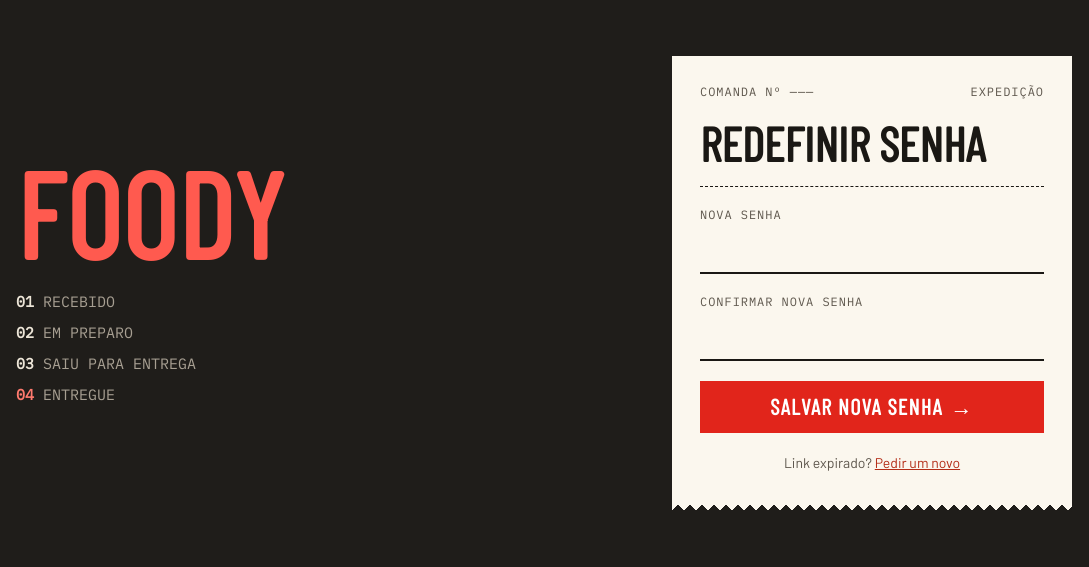
Scenario: ResetPasswordPage › sends the token with the new password and goes to the login page
Type "nova-s3nha" into the password field labelled "Nova senha" at x=872, y=252, box [700,230,1044,274]
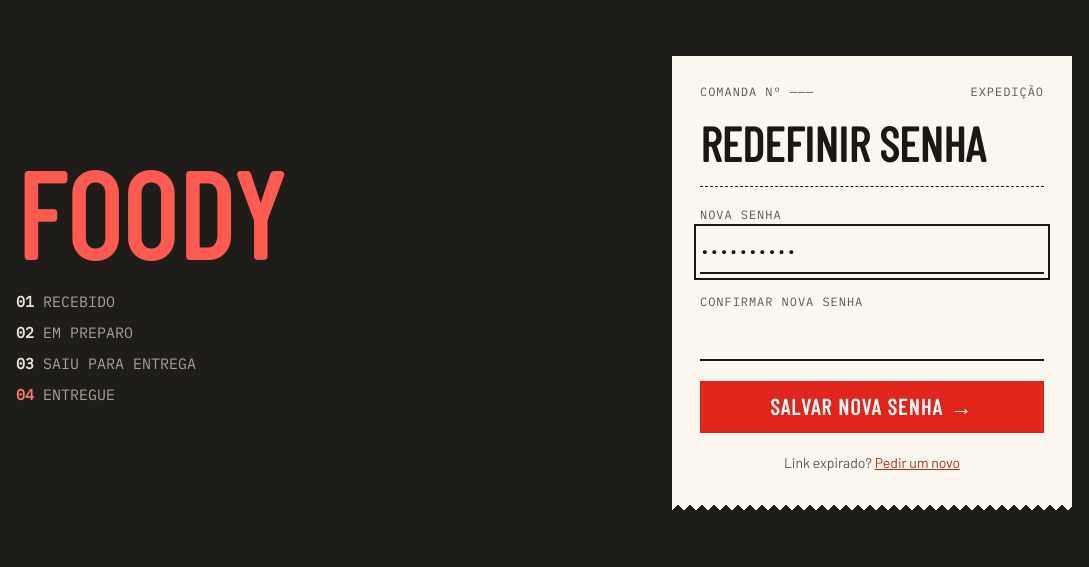
Type "nova-s3nha" into the password field labelled "Confirmar nova senha" at x=872, y=339, box [700,317,1044,361]
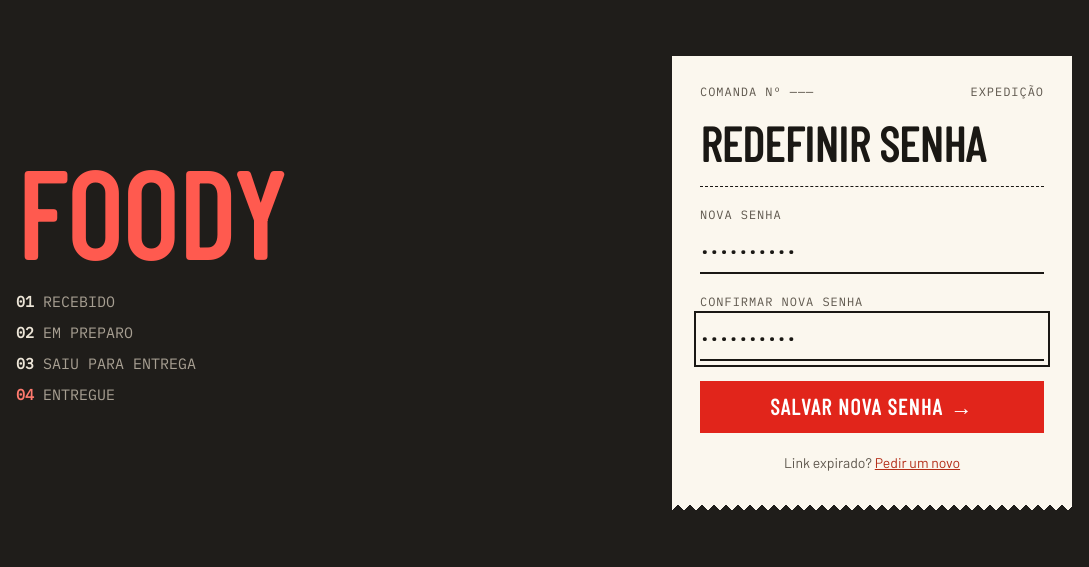
Click the button "Salvar nova senha →" at x=872, y=407, box [700,381,1044,433]
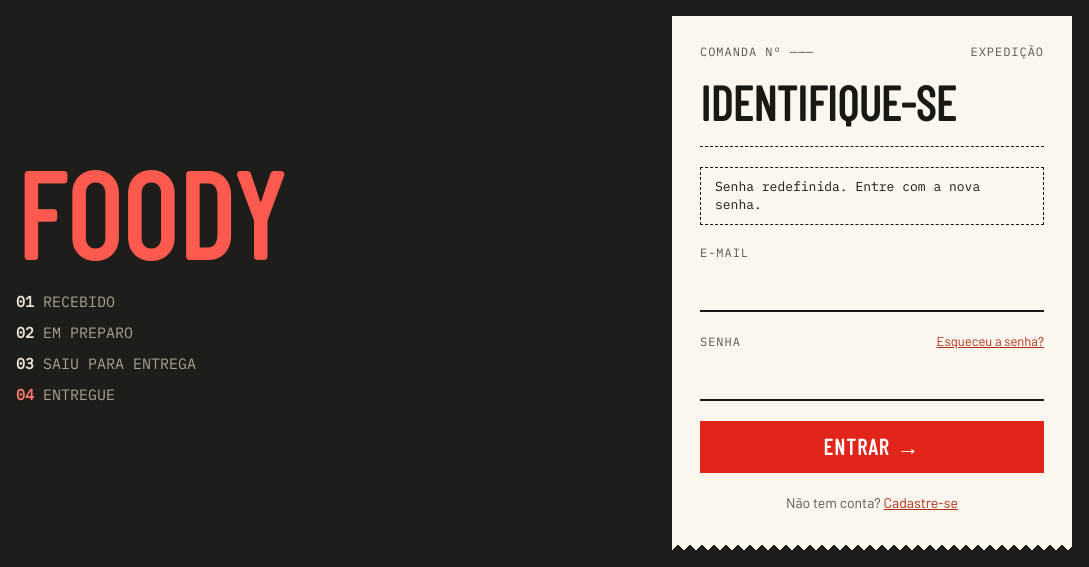
Result: the heading "Identifique-se" is shown at [700,73,956,131]
Result: the message shows "Senha redefinida." at [715,178,980,213]
